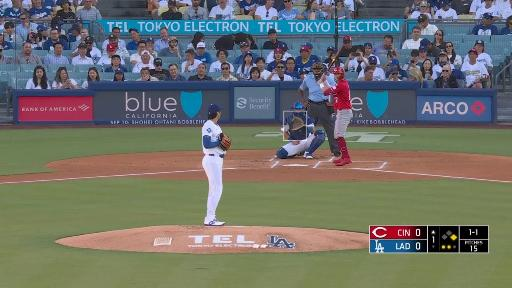pitcher: (202, 103, 232, 226)
